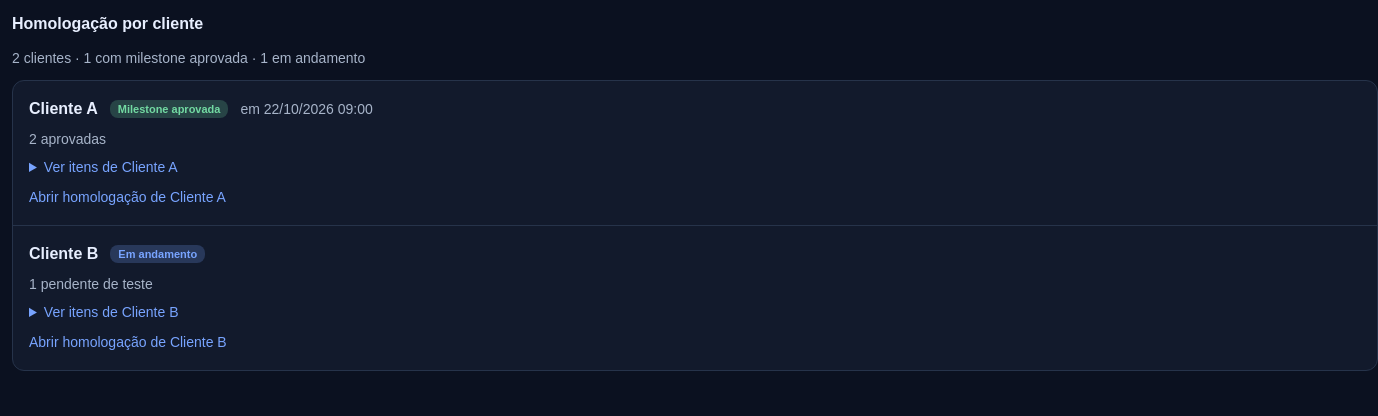
Test: ConsolidacaoPorCliente › "Ver itens de <Cliente>" expande os itens com estado e versão
Click the heading "Ver itens de Cliente B": (111, 312) x1=44 y1=304 x2=178 y2=320
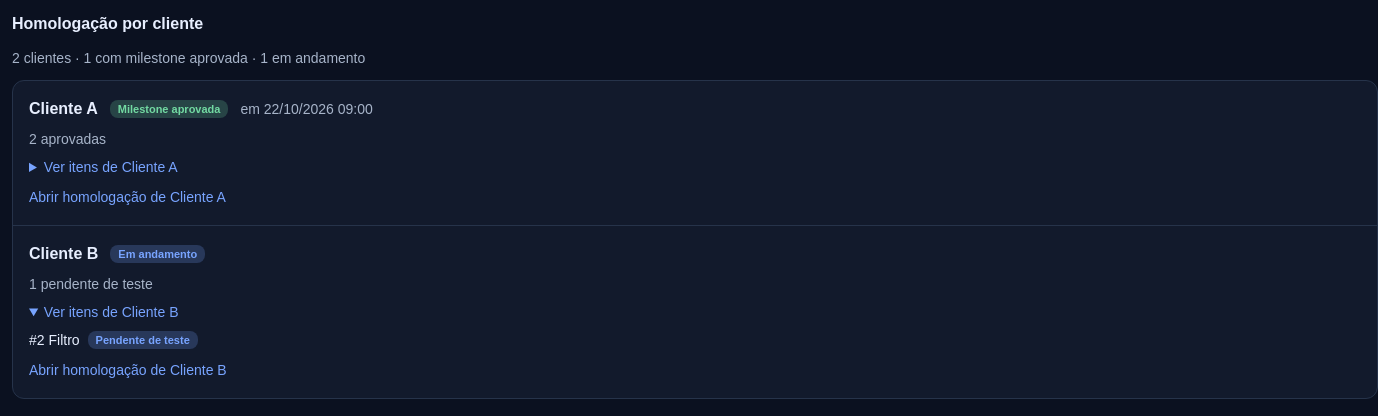
Expected: the text "#2 Filtro" is shown, x1=29 y1=330 x2=80 y2=350
